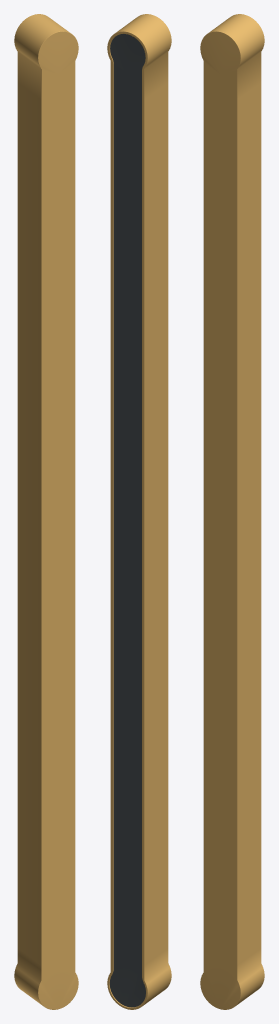
The model's file is platform.fbx.
3 renders of one model, left to right at view 1: azimuth 30°, elevation 25°; view 2: azimuth 150°, elevation 25°; view 3: azimuth 330°, elevation 25°, orthographic.
Visible parts, largest first — view 1: Cylinder; view 2: Cylinder; view 3: Cylinder.
Part boxes in pixels (left/top/right/bottom): Cylinder: left=14, top=14, right=78, bottom=1009; Cylinder: left=107, top=14, right=171, bottom=1009; Cylinder: left=200, top=14, right=264, bottom=1009.
Bounding box in the file's own units: 2 × 45.92 × 2.03.
